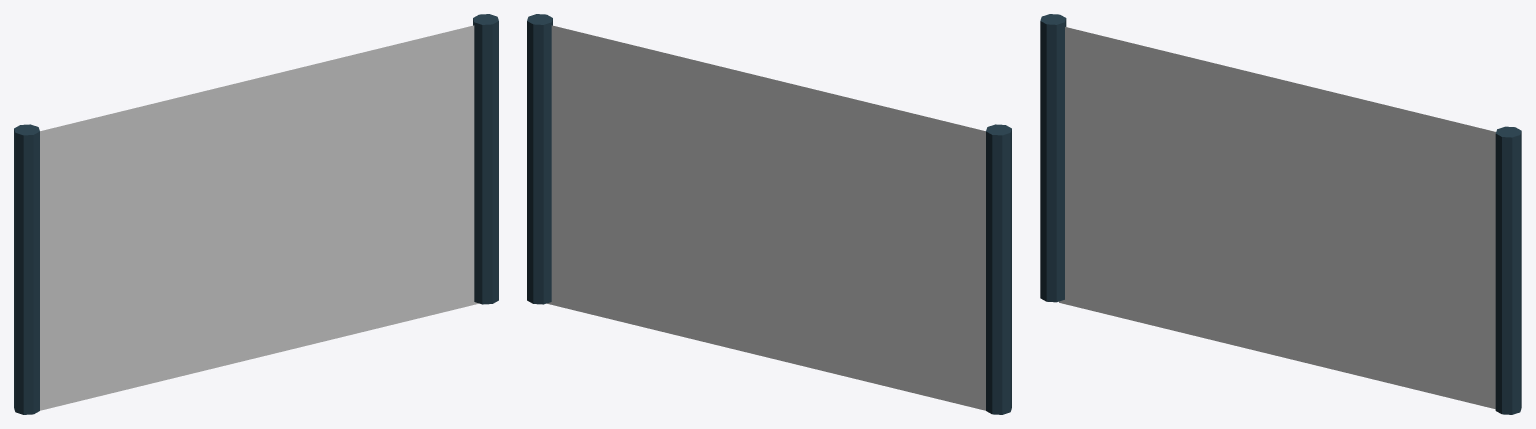
The model's file is plot_3.fbx.
3 renders of one model, left to right at view 1: azimuth 30°, elevation 25°; view 2: azimuth 150°, elevation 25°; view 3: azimuth 330°, elevation 25°, orthographic.
Visible parts, largest first — view 1: Plane.001, Cylinder.001; view 2: Plane.001, Cylinder.001; view 3: Plane.001, Cylinder.001.
Part boxes in pixels (x1,y1,x2,y2): Plane.001: [40, 25, 478, 410]; Cylinder.001: [14, 14, 498, 414]; Plane.001: [547, 25, 985, 410]; Cylinder.001: [527, 14, 1011, 414]; Plane.001: [1059, 27, 1495, 409]; Cylinder.001: [1040, 14, 1521, 414].
Size of the model in its own units: 17.46 by 203 by 361.
